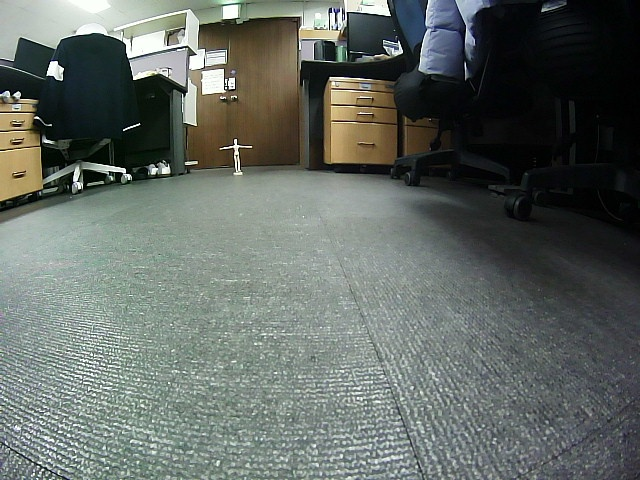person: (220, 139, 252, 171)
